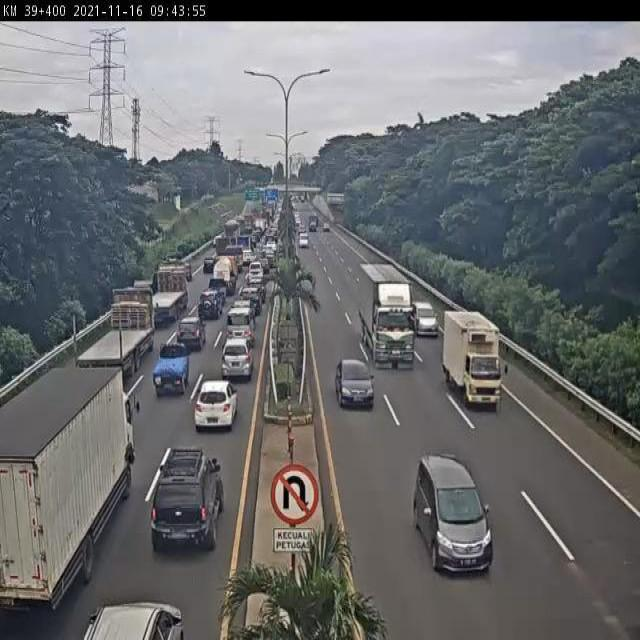car: (414, 454, 494, 574), (152, 449, 227, 554), (193, 384, 237, 435), (151, 344, 190, 397), (337, 357, 375, 411), (222, 337, 255, 383), (228, 306, 257, 346), (177, 319, 205, 352), (199, 291, 222, 321)
small truck: (442, 308, 508, 409)
truck-l-: (69, 288, 152, 383), (357, 263, 417, 368), (147, 264, 193, 324)
truck-m-: (0, 367, 141, 609)
